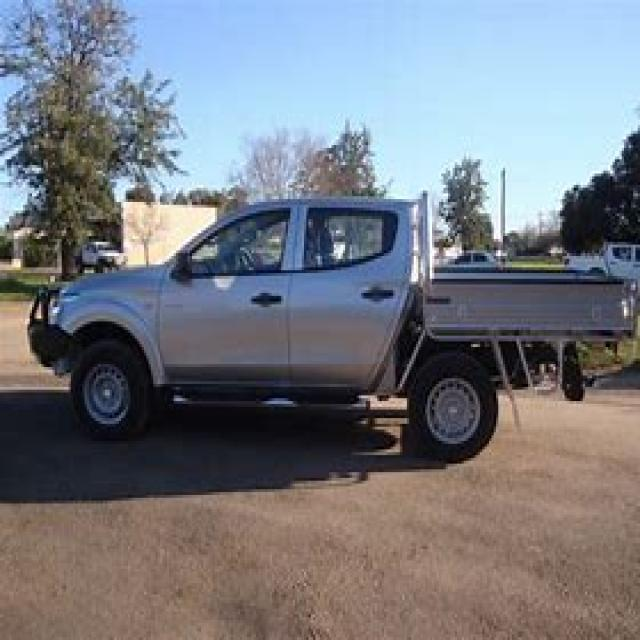light_vehicle: (18, 185, 638, 461)
